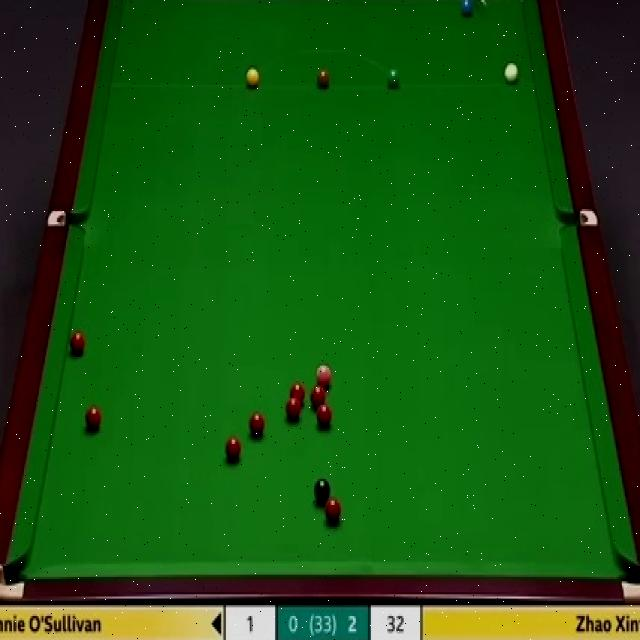black-ball: (313, 477, 331, 508)
blue-ball: (462, 0, 479, 15)
brown-ball: (316, 68, 331, 90)
green-ball: (386, 68, 401, 91)
pink-ball: (312, 362, 332, 389)
red-ball: (82, 402, 103, 434), (224, 436, 243, 466), (323, 498, 342, 524), (248, 411, 266, 436), (284, 397, 302, 422), (68, 330, 85, 356), (316, 402, 332, 428), (288, 382, 306, 404), (310, 385, 326, 407)
white-ball: (502, 60, 520, 86)
yellow-ball: (246, 66, 260, 90)
